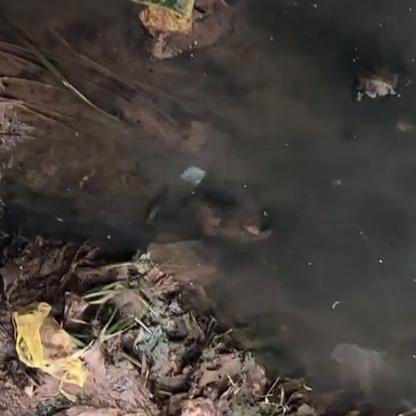Trash: (8, 310, 92, 385), (123, 1, 204, 36), (182, 159, 208, 190)
